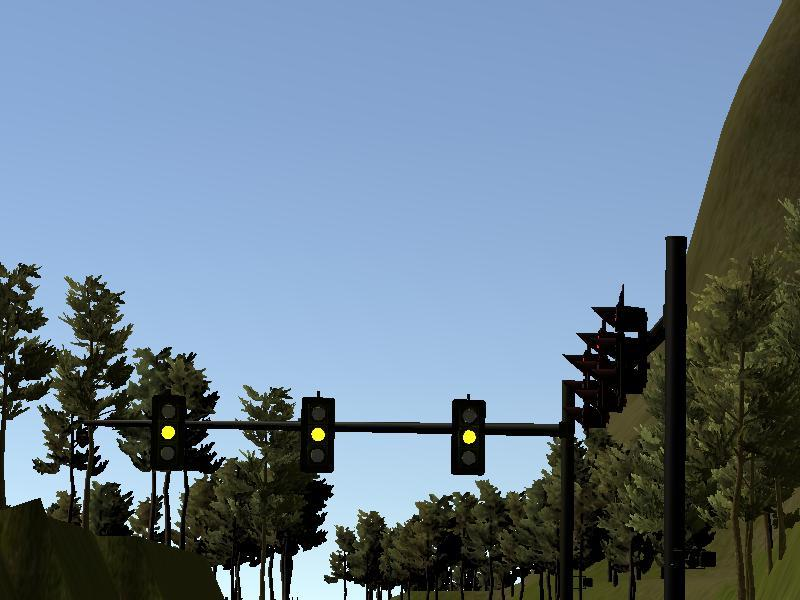Yellow: (452, 399, 485, 475), (152, 395, 185, 470), (302, 398, 333, 472)
